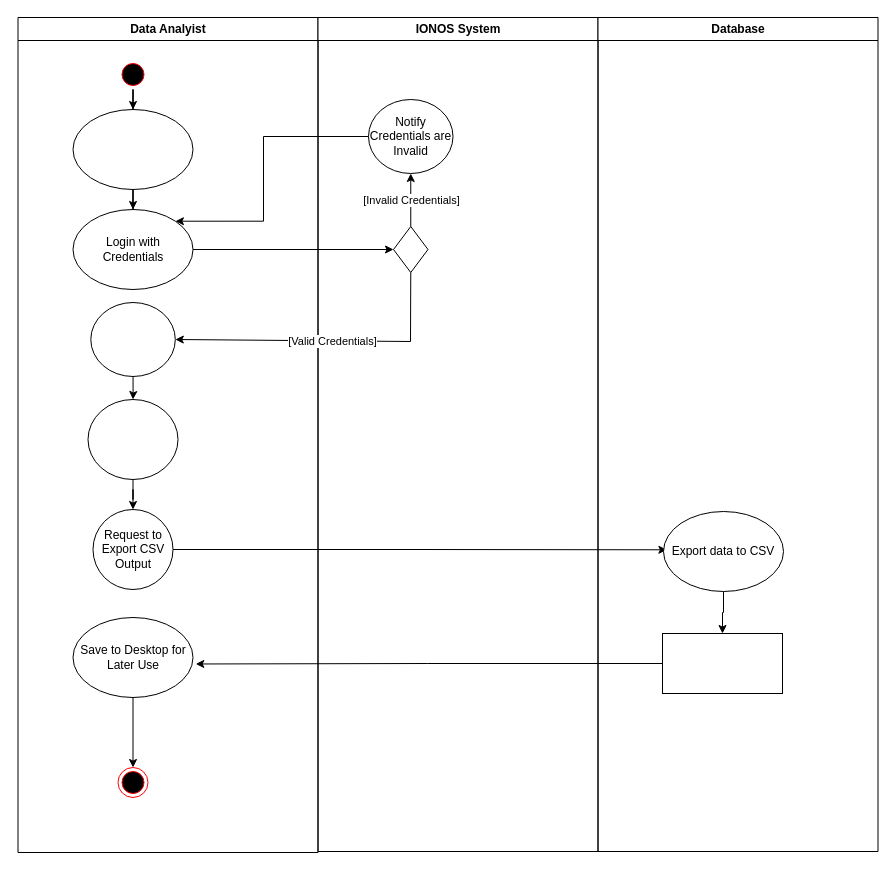
This 895x870 diagram has some shape labels left out. The centre of each missing label's shape, as x and y in pixels:
CSV Output File: point (722, 663)
Navigate to phpMyAdmin on Database: point (132, 439)
Navigate to the Database: point (132, 339)
Requires new extracted dataset: point (132, 149)
